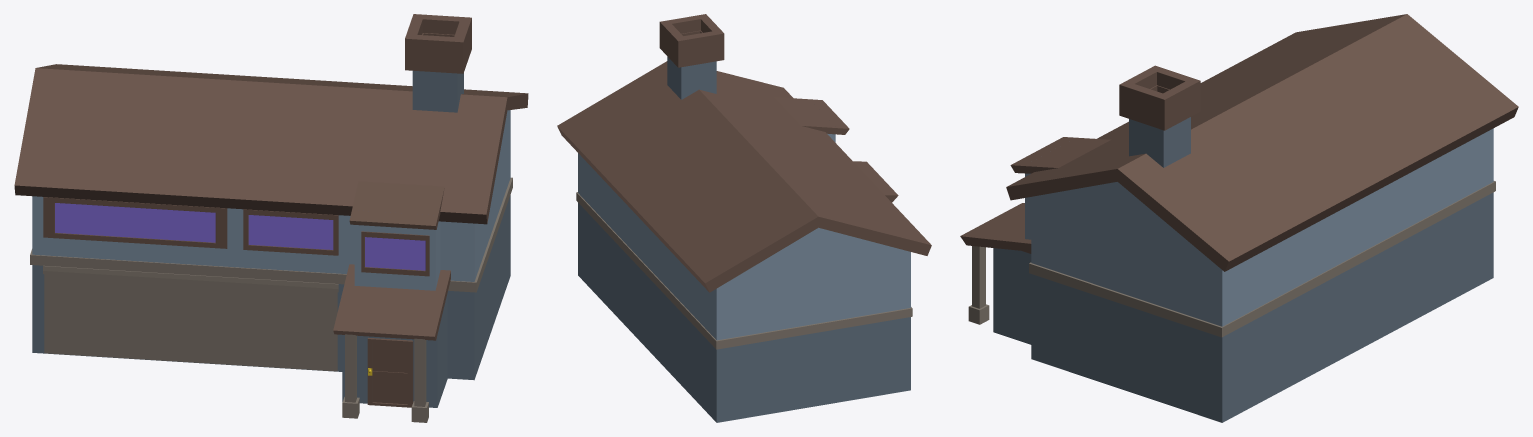
Rendered from CALLE1_CASA2_015.fbx.
3 views of the same model, side by side, from view 1: azimuth 30°, elevation 25°; view 2: azimuth 150°, elevation 25°; view 3: azimuth 270°, elevation 25° (orthographic). The views are drawn at different scales.
Parts seen in each view (by area): view 1: CASA2.015; view 2: CASA2.015; view 3: CASA2.015.
Boxes of the visible parts, x1,y1,x2,y2 form: CASA2.015: (14,14,528,422); CASA2.015: (557,14,931,422); CASA2.015: (960,14,1518,422).
Size of the model in its own units: 1151 by 680 by 1185.
